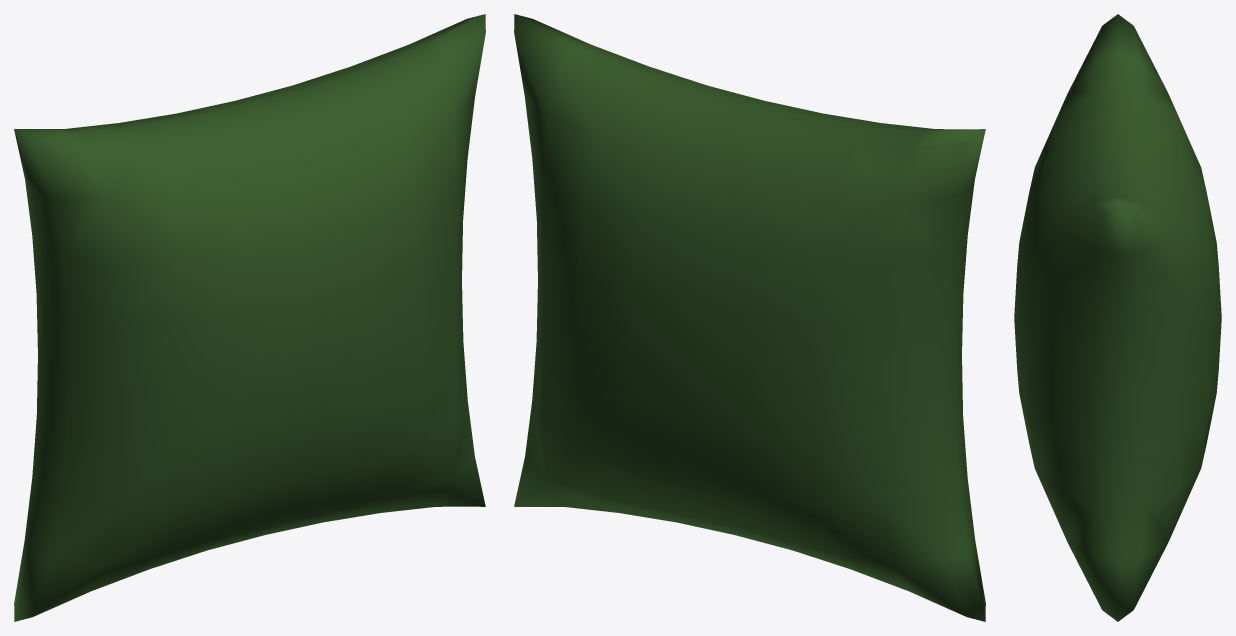
Rendered from 3edc0e16-9492-48ba-9bce-aa8351bb843a.glb.
The picture shows the model from 3 angles, left to right: view 1: azimuth 30°, elevation 25°; view 2: azimuth 150°, elevation 25°; view 3: azimuth 270°, elevation 25°; orthographic projection. The views are drawn at different scales.
Visible parts, largest first — view 1: StandardPillowGreen; view 2: StandardPillowGreen; view 3: StandardPillowGreen.
Part boxes in pixels (box(x1,y1,x2,y2)): StandardPillowGreen: box(14, 14, 485, 621); StandardPillowGreen: box(514, 14, 985, 621); StandardPillowGreen: box(1014, 14, 1221, 621).
Size of the model in its own units: 0.6356 by 0.6356 by 0.2884.
Materials: 1 (1 with a texture image).
